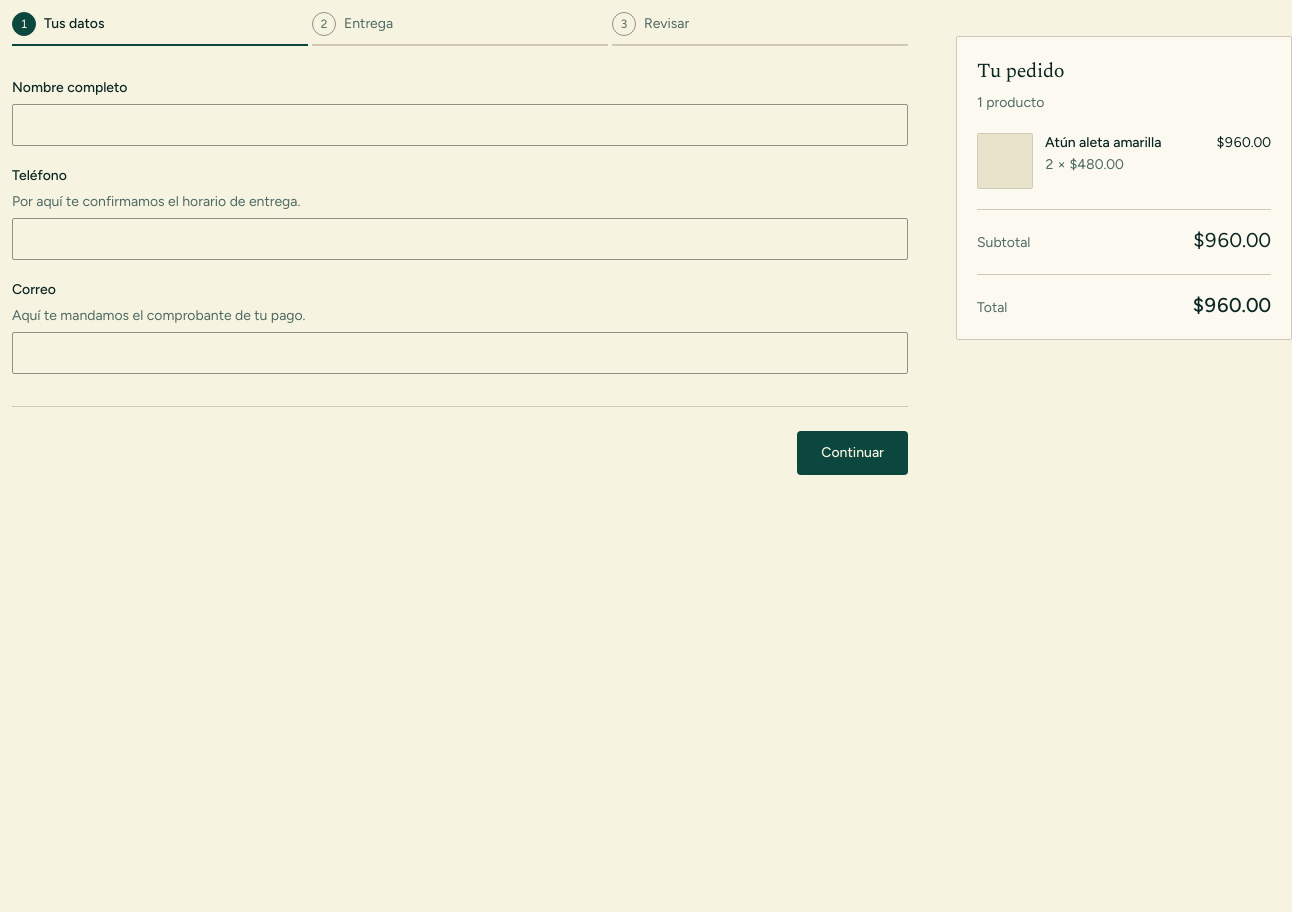
fuera de cobertura › bloquea el paso y dice por qué
The width and height of the screenshot is (1292, 912).
Type "Ana Torres" into the field labelled "Nombre completo" at x=460, y=125, box [12, 104, 908, 146]
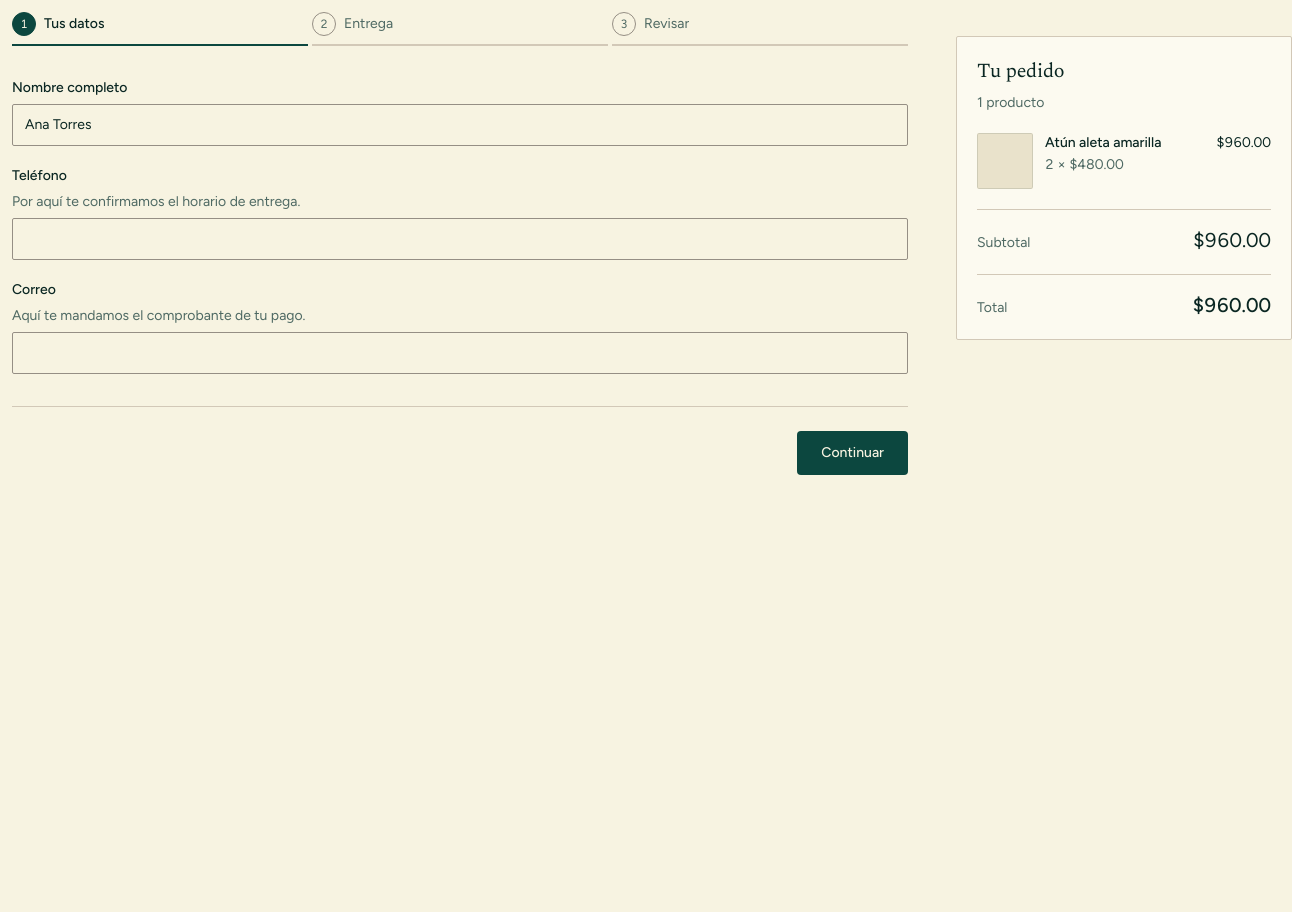
Type "8112345678" into the field labelled "Teléfono" at x=460, y=239, box [12, 218, 908, 260]
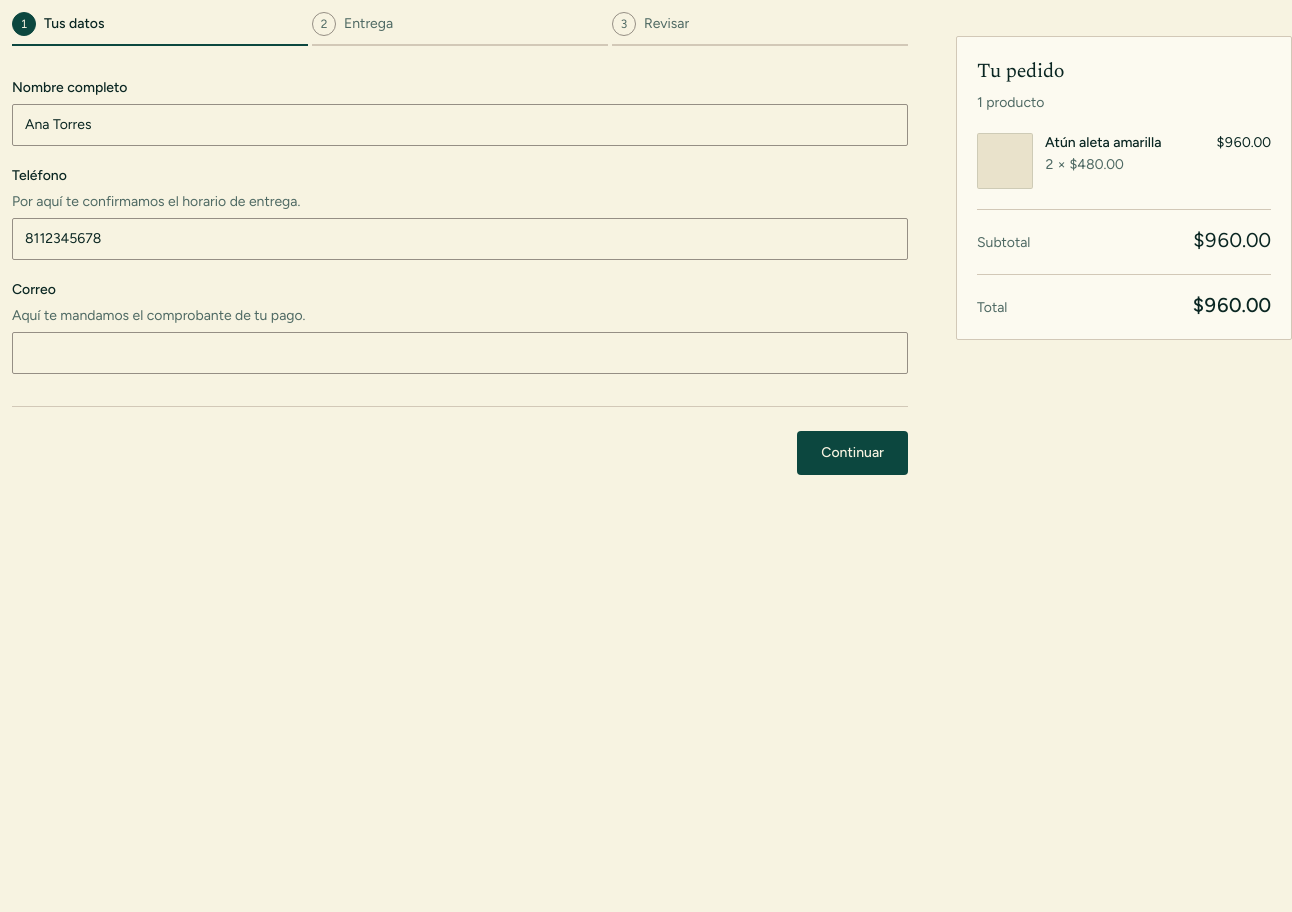
Type "ana@example.com" into the field labelled "Correo" at x=460, y=353, box [12, 332, 908, 374]
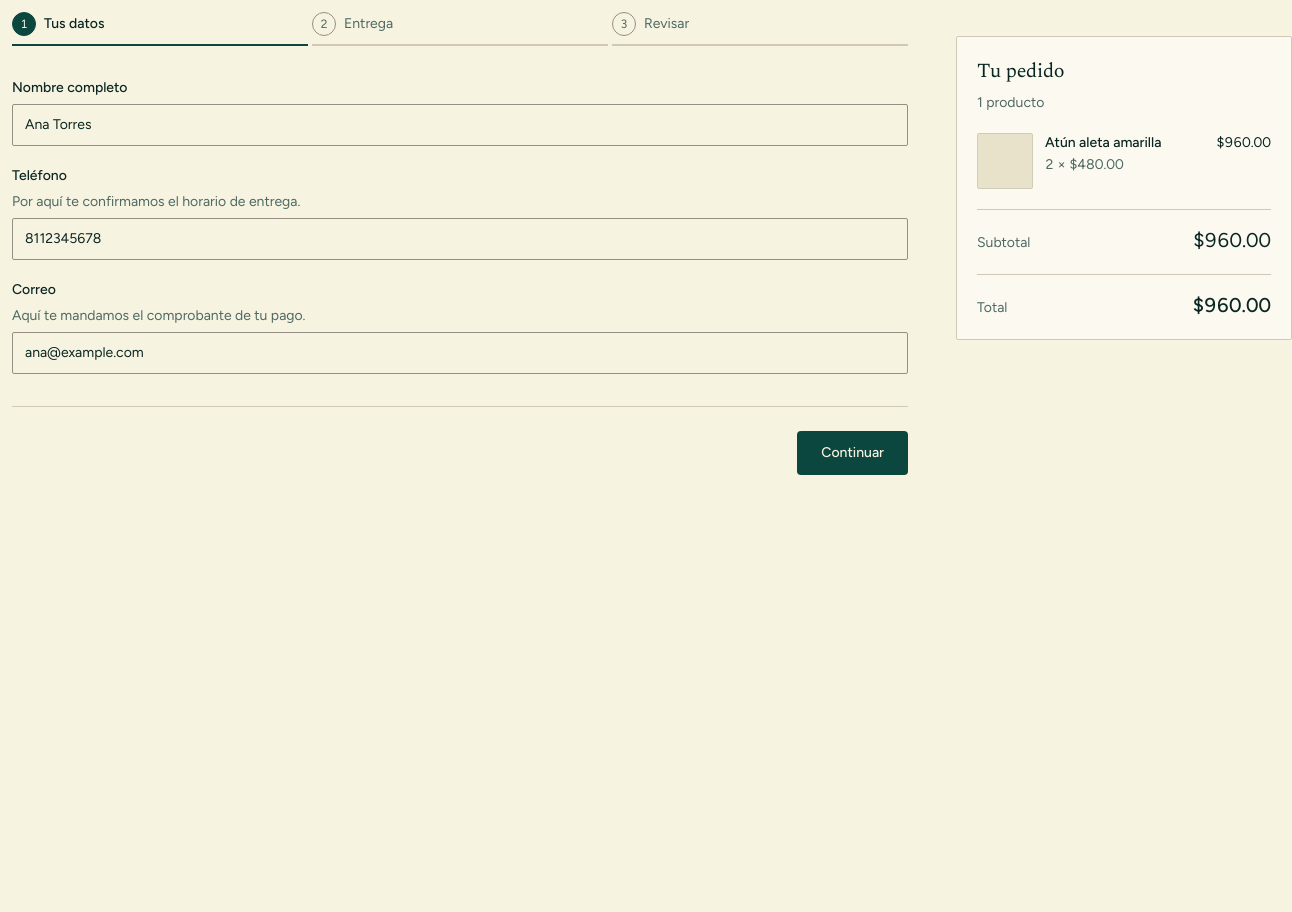
Click the button "Continuar" at x=853, y=453, box [797, 431, 908, 475]
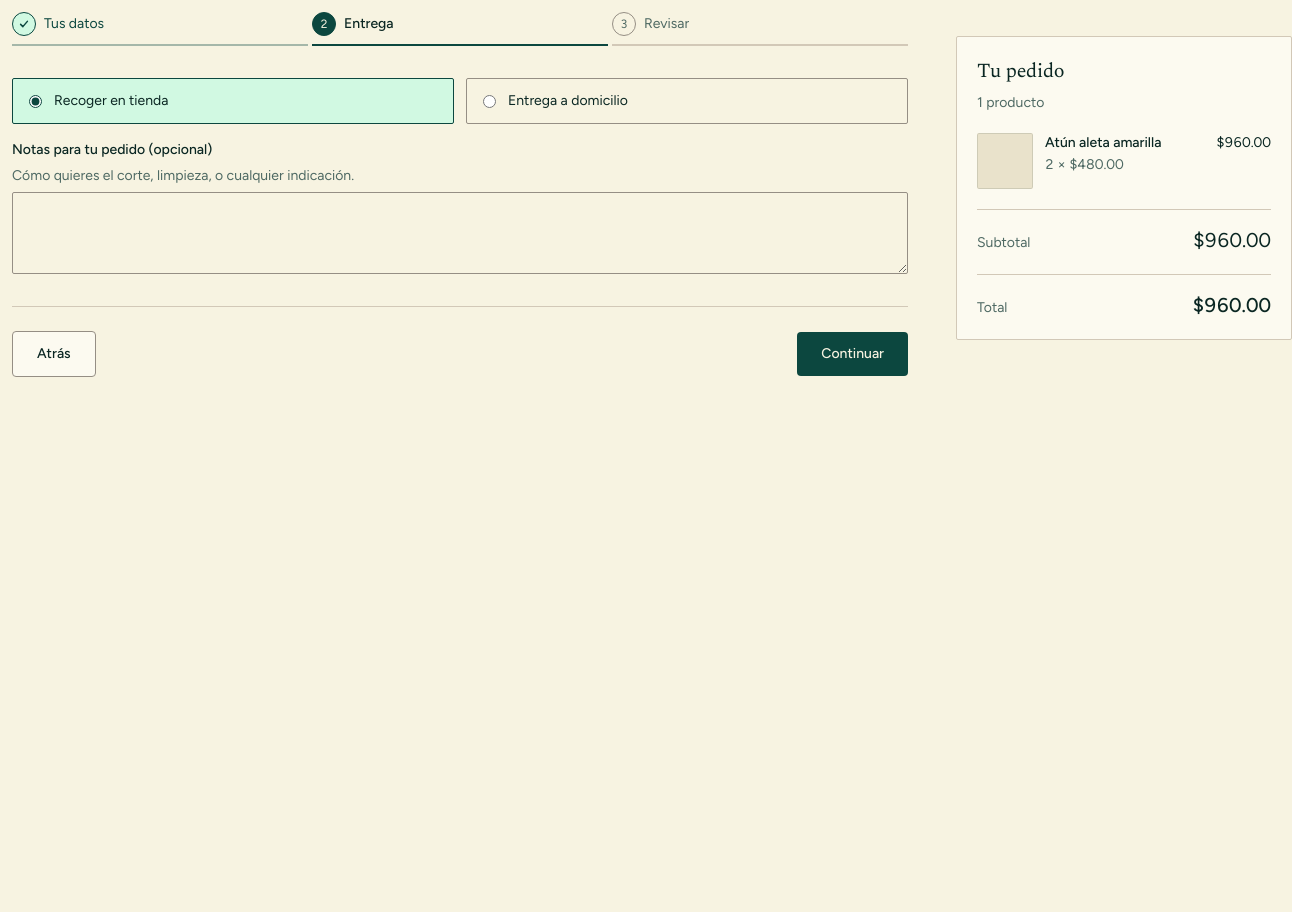
Click the radio button labelled "Entrega a domicilio" at x=490, y=101, box [483, 94, 496, 108]
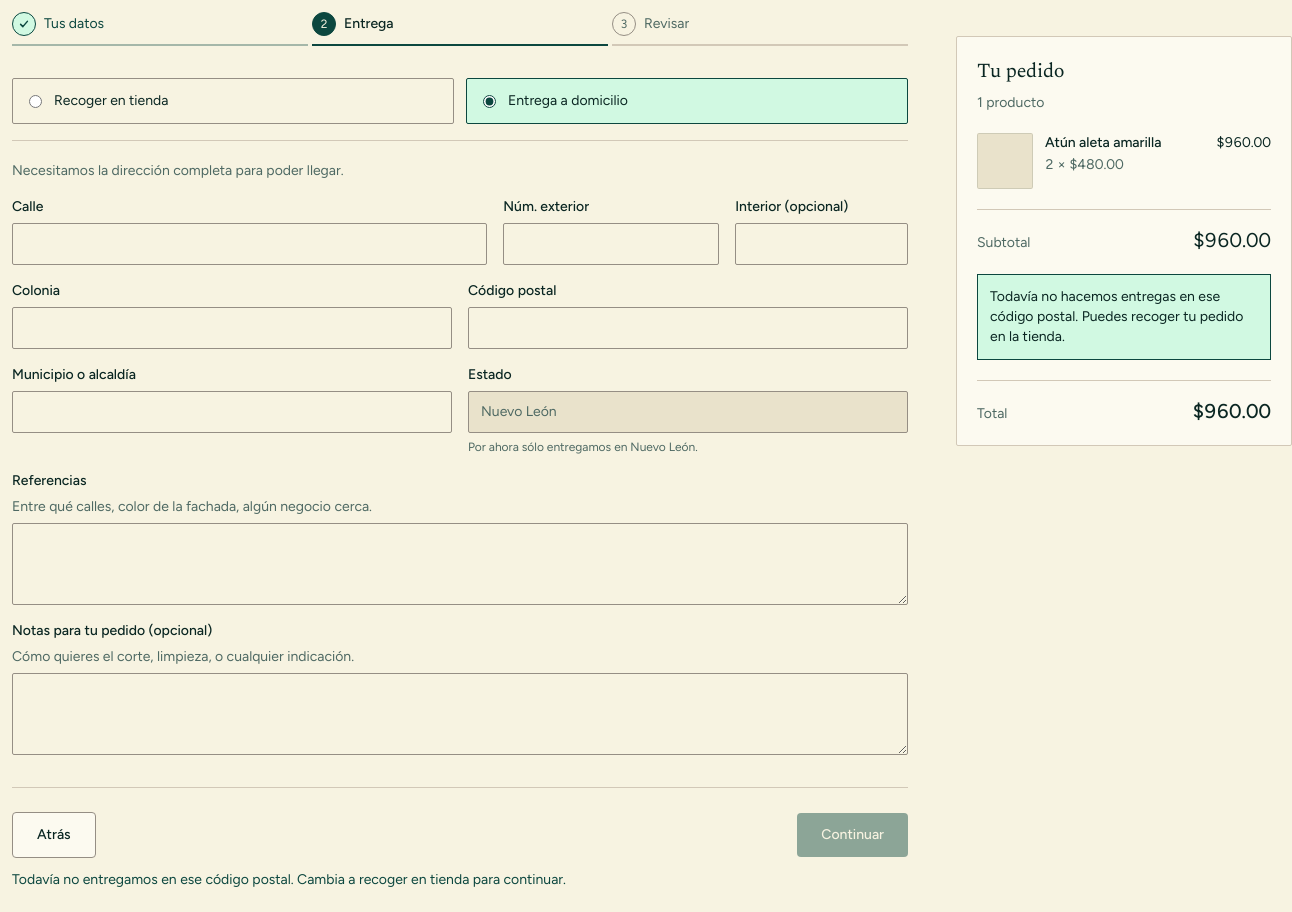
Now the button "Continuar" is disabled, box [797, 813, 908, 857]
Now the text "Todavía no entregamos en ese código postal" is shown, box [12, 871, 566, 888]
